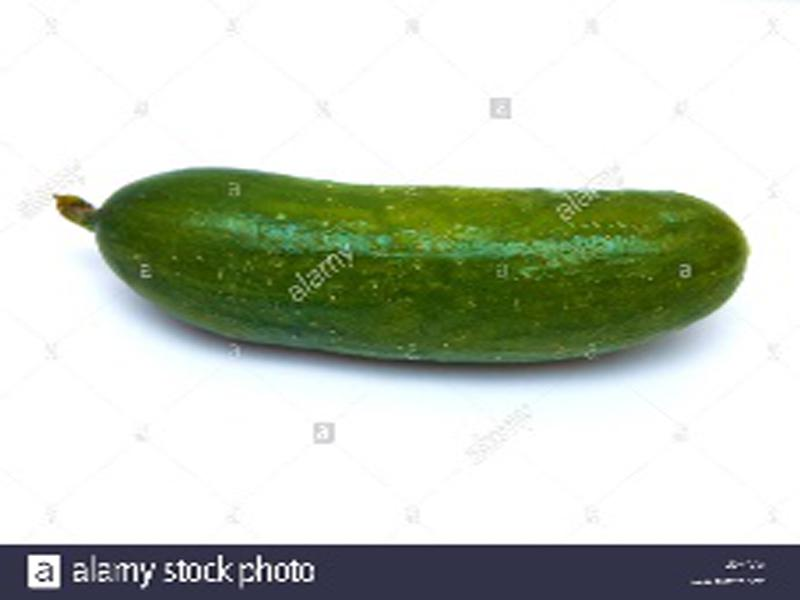Cucumber: (53, 167, 751, 362)
